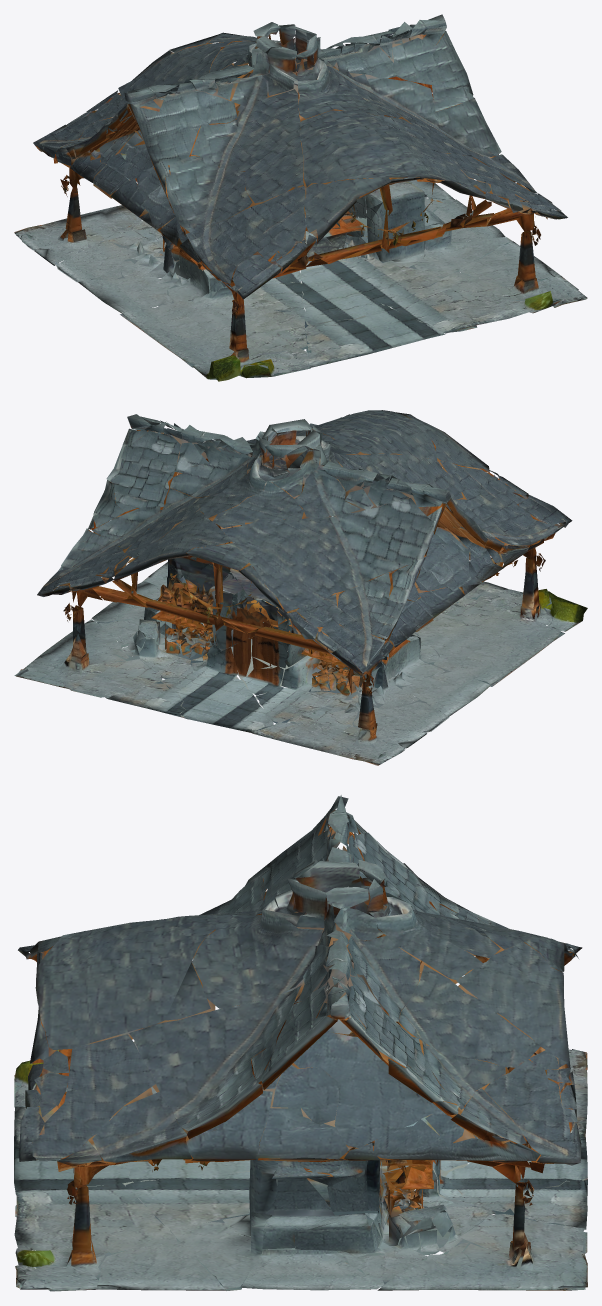
Rendered from mesh_common_kitchen_a.glb.
3 renders of one model, top to bottom at view 1: azimuth 30°, elevation 25°; view 2: azimuth 150°, elevation 25°; view 3: azimuth 270°, elevation 25°, orthographic. The views are drawn at different scales.
Parts seen in each view (by area): view 1: mesh_common_kitchen_a__mesh_common_kitchen_a__Mesh_0; view 2: mesh_common_kitchen_a__mesh_common_kitchen_a__Mesh_0; view 3: mesh_common_kitchen_a__mesh_common_kitchen_a__Mesh_0.
Part boxes in pixels (x1,y1,x2,y2): mesh_common_kitchen_a__mesh_common_kitchen_a__Mesh_0: (14,14,587,381); mesh_common_kitchen_a__mesh_common_kitchen_a__Mesh_0: (14,410,587,765); mesh_common_kitchen_a__mesh_common_kitchen_a__Mesh_0: (14,795,587,1291).
Size of the model in its own units: 20 by 11.56 by 19.99.
1 material, 1 textured.
